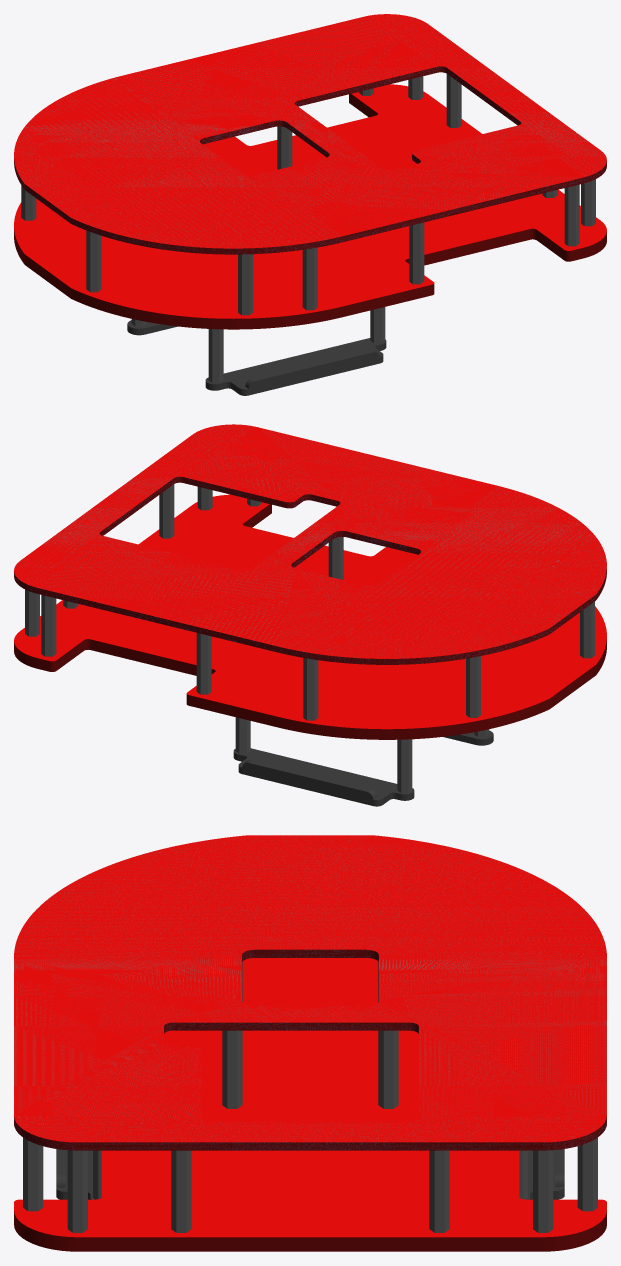
The model's file is caretta.dae.
3 renders of one model, top to bottom at view 1: azimuth 30°, elevation 25°; view 2: azimuth 150°, elevation 25°; view 3: azimuth 270°, elevation 25°, orthographic. The views are drawn at different scales.
Visible parts, largest first — view 1: instance_0 (×17); view 2: instance_0 (×17); view 3: instance_0 (×16).
Boxes of the visible parts, box(x1,y1,x2,y2) form: instance_0 (×17): box(14, 14, 606, 395); instance_0 (×17): box(14, 424, 606, 806); instance_0 (×16): box(14, 835, 606, 1251).
Bounding box in the file's own units: 8.98 × 7.32 × 2.79.
